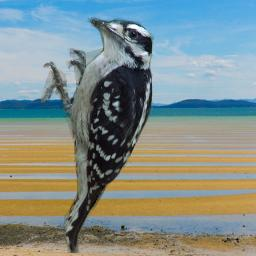Woodpecker: (41, 15, 168, 253)
